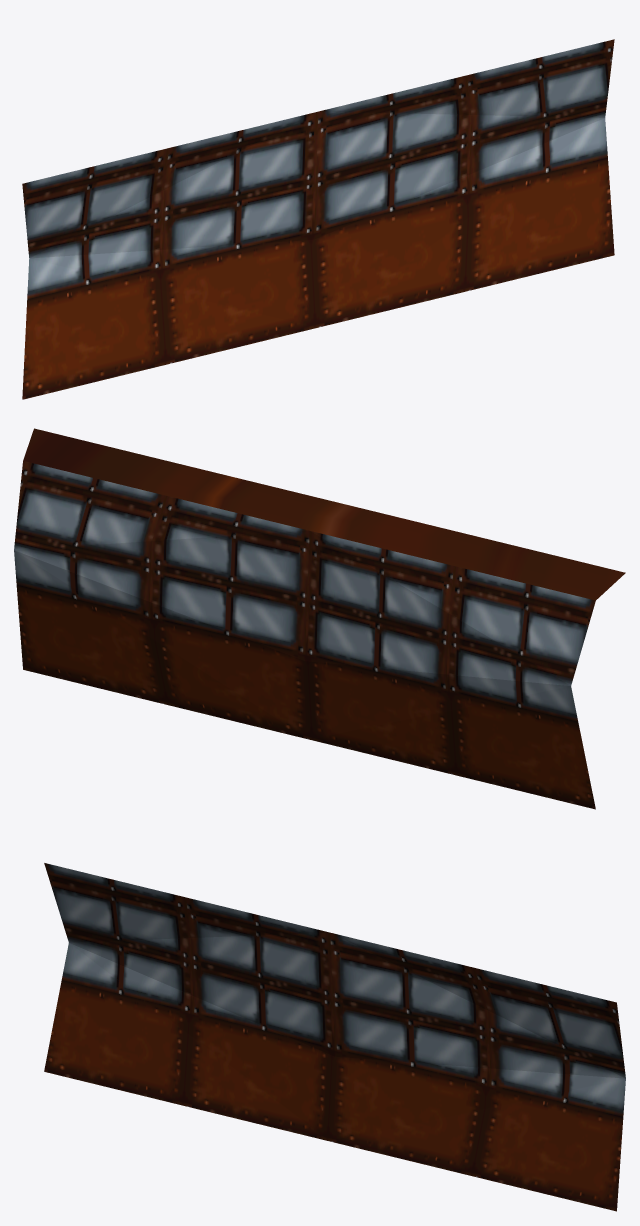
File: W_A2l_xxxx [BraunesGlas]_871.glb
3 views of the same model, one above another, from view 1: azimuth 30°, elevation 25°; view 2: azimuth 150°, elevation 25°; view 3: azimuth 330°, elevation 25° (orthographic). The views are drawn at different scales.
Parts seen in each view (by area): view 1: polySurfaceShape787; view 2: polySurfaceShape787, polySurfaceShape1065; view 3: polySurfaceShape787.
Part boxes in pixels (x1=…): polySurfaceShape787: x1=22, y1=39, x2=614, y2=399; polySurfaceShape787: x1=14, y1=461, x2=595, y2=809; polySurfaceShape1065: x1=23, y1=428, x2=625, y2=600; polySurfaceShape787: x1=44, y1=863, x2=625, y2=1211.
Size of the model in its own units: 1.03 by 0.3891 by 0.0607.
Materials: 2 (2 with a texture image).
